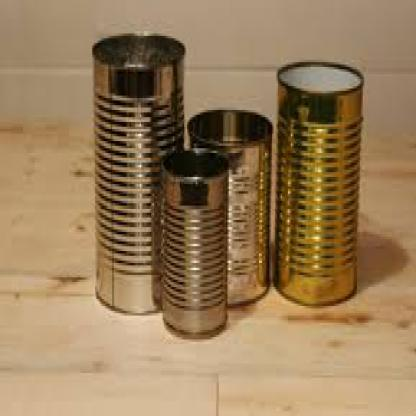METAL: (89, 29, 184, 313), (274, 60, 362, 306), (186, 108, 271, 310), (158, 148, 228, 340)
